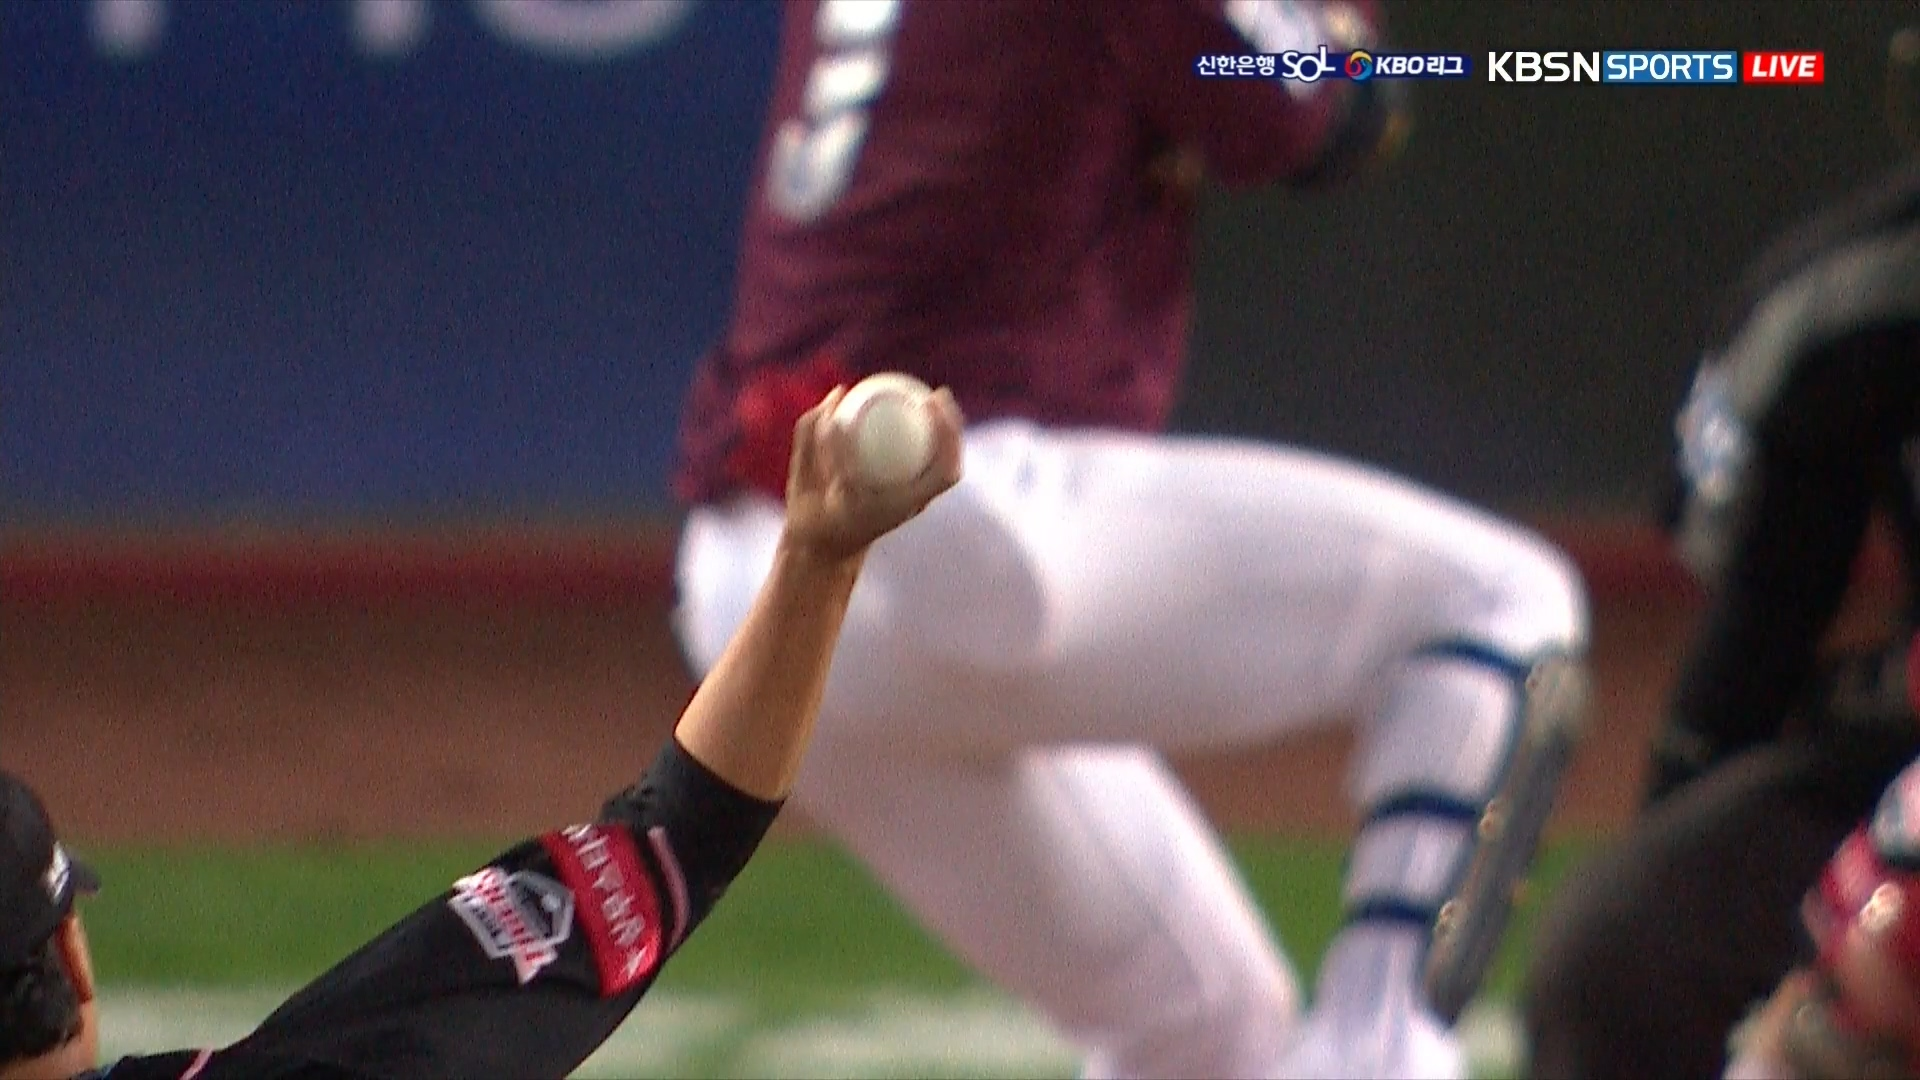zoomin_hand: (600, 359, 993, 916)
